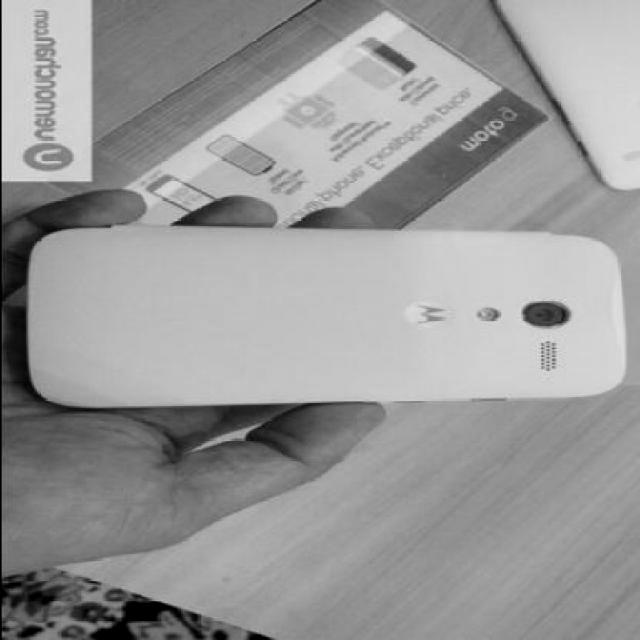fake: (46, 214, 629, 412), (487, 1, 640, 193), (334, 36, 416, 92), (144, 173, 213, 213)
